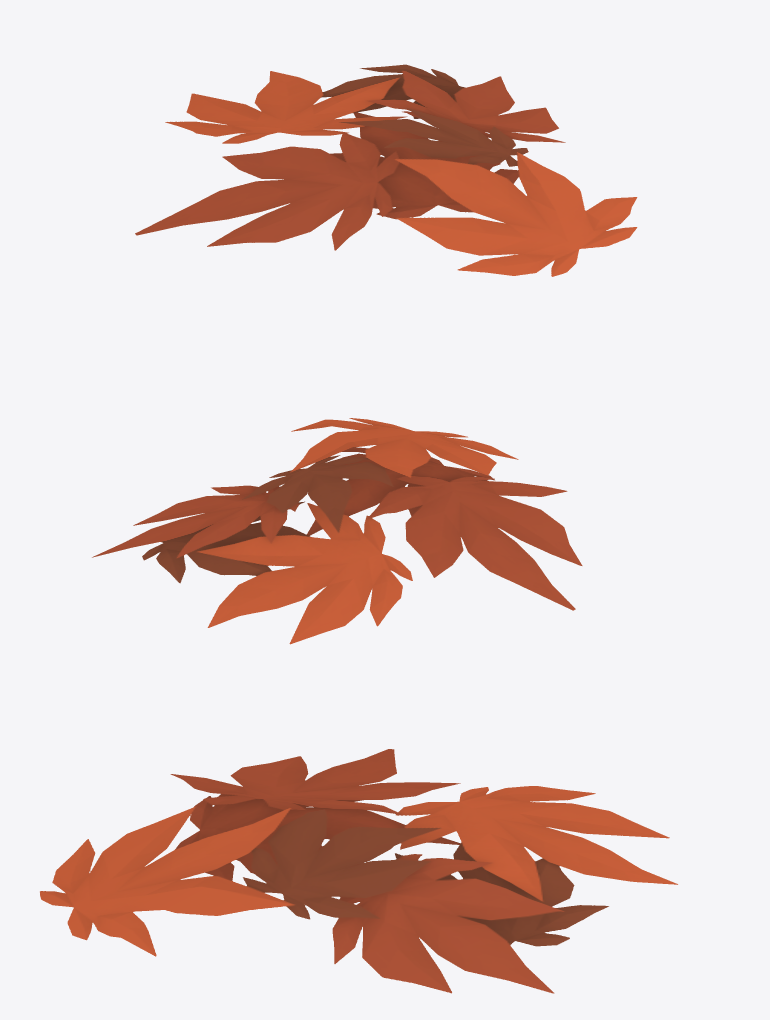
Rendered from SM_Env_Maple_Small_04.fbx.
The picture shows the model from 3 angles, top to bottom: view 1: azimuth 30°, elevation 25°; view 2: azimuth 150°, elevation 25°; view 3: azimuth 270°, elevation 25°; orthographic projection. The views are drawn at different scales.
Visible parts, largest first — view 1: SM_Env_Maple_Small_04; view 2: SM_Env_Maple_Small_04; view 3: SM_Env_Maple_Small_04.
Boxes of the visible parts, box(x1,y1,x2,y2) form: SM_Env_Maple_Small_04: box(135, 64, 637, 276); SM_Env_Maple_Small_04: box(92, 418, 582, 644); SM_Env_Maple_Small_04: box(40, 749, 677, 993).
Bounding box in the file's own units: 106 × 12.41 × 123.
